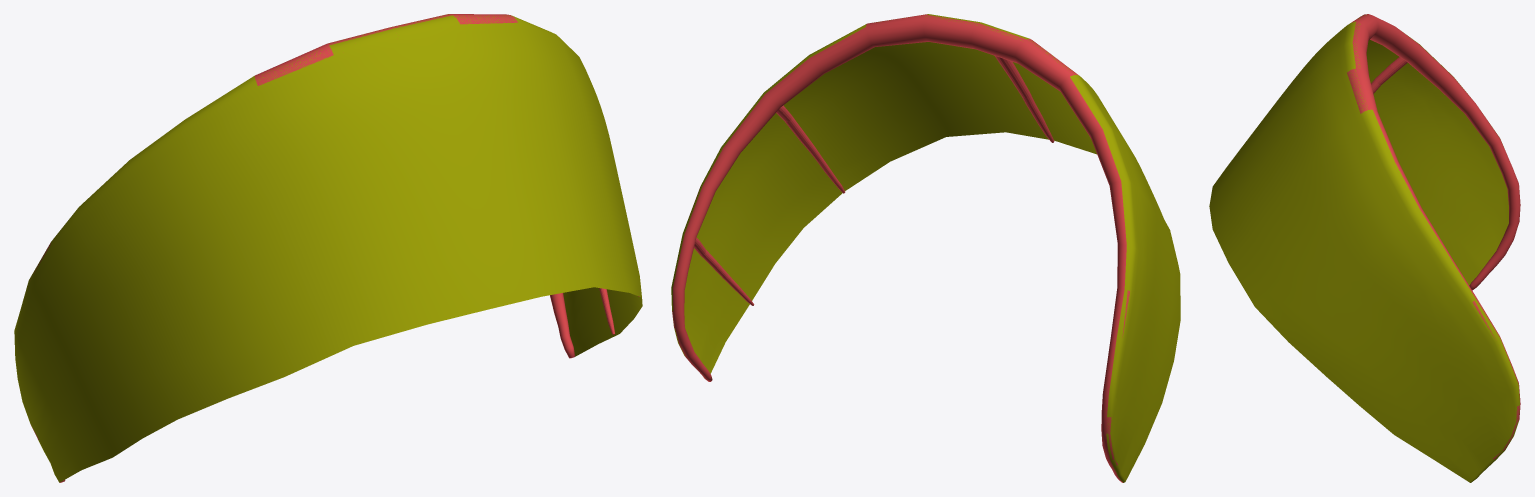
Rendered from kite.glb.
3 views of the same model, side by side, from view 1: azimuth 30°, elevation 25°; view 2: azimuth 150°, elevation 25°; view 3: azimuth 270°, elevation 25° (orthographic). The views are drawn at different scales.
Parts seen in each view (by area): view 1: Spi, Centrale; view 2: Spi, Centrale, latte up, lattes_middle_up, lattes_down; view 3: Spi, Centrale, lattes_middle_up2.
Boxes of the visible parts, x1,y1,x2,y2 form: Spi: (14, 14, 642, 482); Centrale: (31, 14, 574, 482); Spi: (671, 14, 1180, 482); Centrale: (672, 14, 1129, 482); latte up: (994, 55, 1054, 142); lattes_middle_up: (776, 105, 845, 193); lattes_down: (694, 237, 754, 305); Spi: (1209, 14, 1519, 482); Centrale: (1347, 14, 1520, 459); lattes_middle_up2: (1371, 57, 1407, 93).
Bounding box in the file's own units: 4.77 × 3.74 × 3.06.
